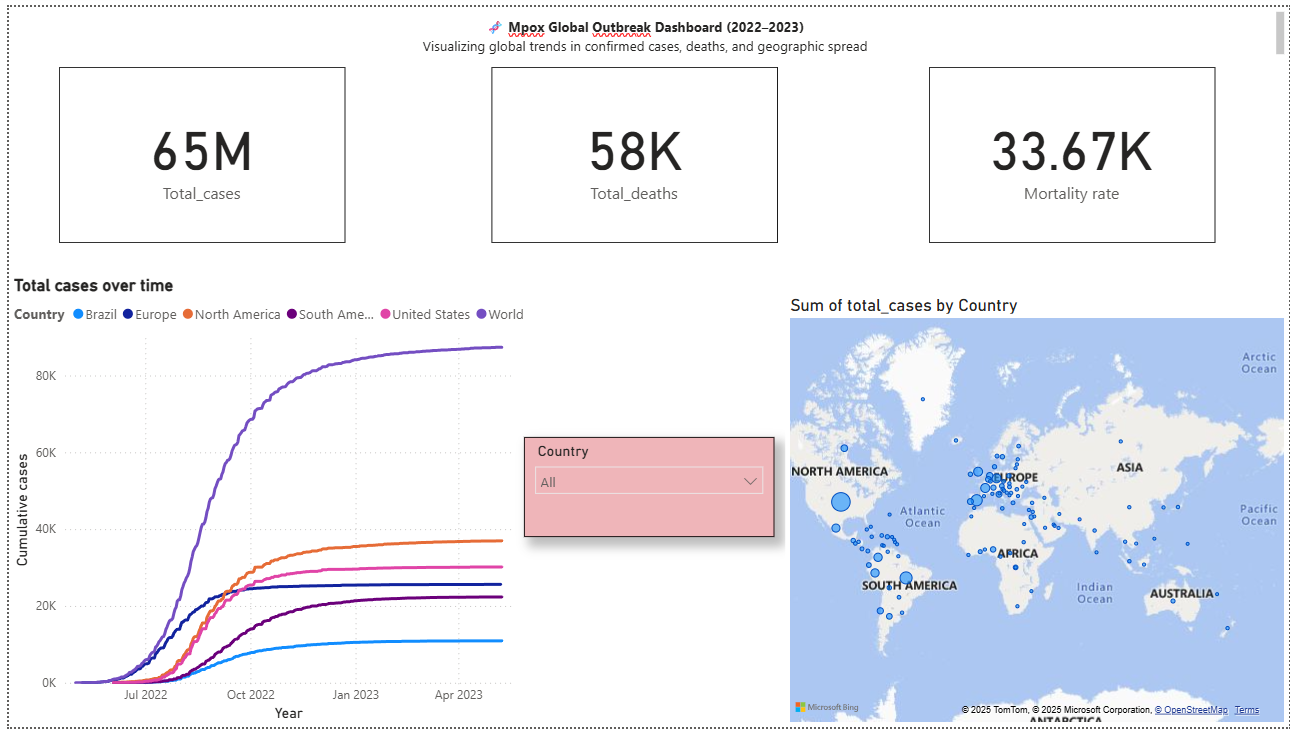

Layout of this report page (visuals, bound fields, positions):
{"tool":"powerbi","page":{"name":"line chart","canvas":[1280,720],"ordinal":0},"visuals":[{"type":"card","fields":{"Values":["Sum(owid-monkeypox-data.total_cases)"]},"box":[0,0,286.7,176.7],"z":1001},{"type":"actionButton","box":[0,0,100,40],"z":1002},{"type":"card","fields":{"Values":["Sum(owid-monkeypox-data.total_deaths)"]},"box":[361.1,1.1,286.7,176.7],"z":1003},{"type":"card","fields":{"Values":["CountNonNull(owid-monkeypox-data.Mortality rate)"]},"box":[721.1,0,286.7,176.7],"z":1004},{"type":"lineChart","title":"Total cases over time","fields":{"Y":["Sum(owid-monkeypox-data.total_cases)"],"Series":["owid-monkeypox-data.Country"],"Category":["owid-monkeypox-data.date.Variation.Date Hierarchy.Year","owid-monkeypox-data.date.Variation.Date Hierarchy.Quarter","owid-monkeypox-data.date.Variation.Date Hierarchy.Month","owid-monkeypox-data.date.Variation.Date Hierarchy.Day"]},"box":[0,221.1,524.4,453.3],"z":1005},{"type":"slicer","fields":{"Values":["owid-monkeypox-data.Country"]},"box":[525,295,250,100],"z":1006},{"type":"map","fields":{"Category":["owid-monkeypox-data.Country"],"Size":["Sum(owid-monkeypox-data.total_cases)"]},"box":[721.7,231.7,503.3,431.7],"z":1007}]}

Visuals, with their boxes in screenshot pixels (x1, y1, x2, y2), scaled from the page's 1280x720 canvas onto the 1290x729 screenshot:
card - Sum(owid-monkeypox-data.total_cases): (left=0, top=0, right=289, bottom=179)
actionButton: (left=0, top=0, right=101, bottom=40)
card - Sum(owid-monkeypox-data.total_deaths): (left=364, top=1, right=653, bottom=180)
card - CountNonNull(owid-monkeypox-data.Mortality rate): (left=727, top=0, right=1016, bottom=179)
"Total cases over time" lineChart: (left=0, top=224, right=528, bottom=683)
slicer - owid-monkeypox-data.Country: (left=529, top=299, right=781, bottom=400)
map - owid-monkeypox-data.Country x Sum(owid-monkeypox-data.total_cases): (left=727, top=235, right=1235, bottom=672)
